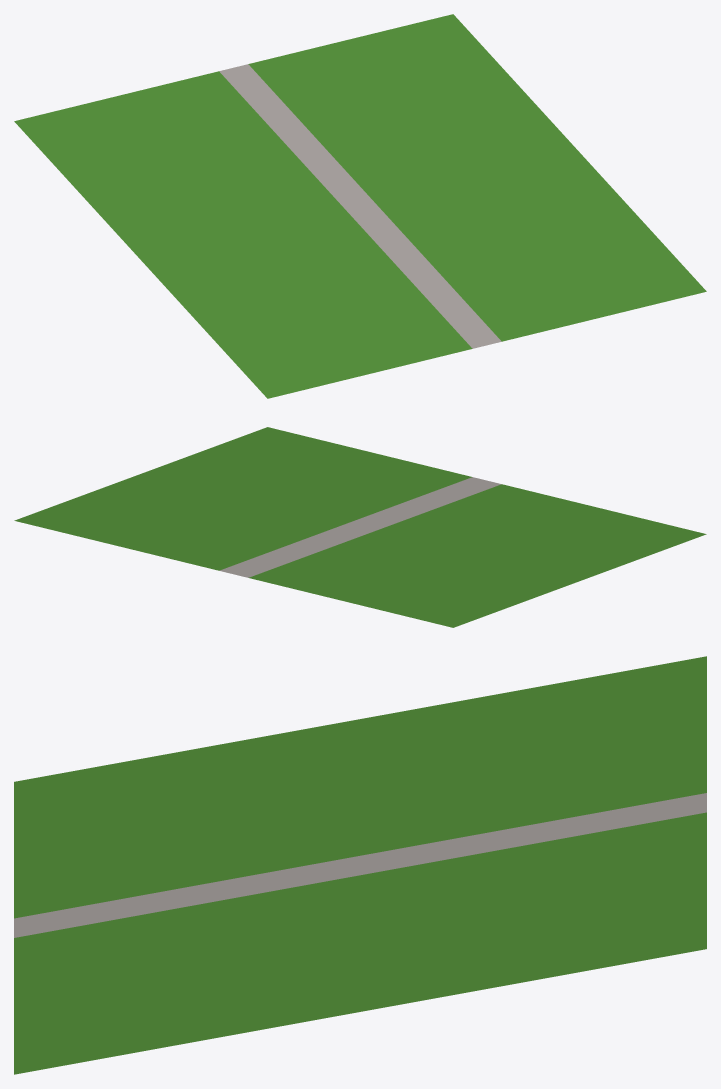
Rendered from tiles-nb_tile-sidewalk-hill-nb.fbx.
3 views of the same model, one above another, from view 1: azimuth 30°, elevation 25°; view 2: azimuth 150°, elevation 25°; view 3: azimuth 270°, elevation 25° (orthographic). The views are drawn at different scales.
Parts seen in each view (by area): view 1: tiles_nb_tile_sidewalk_hill_nb; view 2: tiles_nb_tile_sidewalk_hill_nb; view 3: tiles_nb_tile_sidewalk_hill_nb.
Part boxes in pixels (bbox=[...]): tiles_nb_tile_sidewalk_hill_nb: bbox=[14, 14, 706, 398]; tiles_nb_tile_sidewalk_hill_nb: bbox=[14, 427, 706, 627]; tiles_nb_tile_sidewalk_hill_nb: bbox=[14, 656, 706, 1074].
Size of the model in its own units: 200 by 40 by 200.
